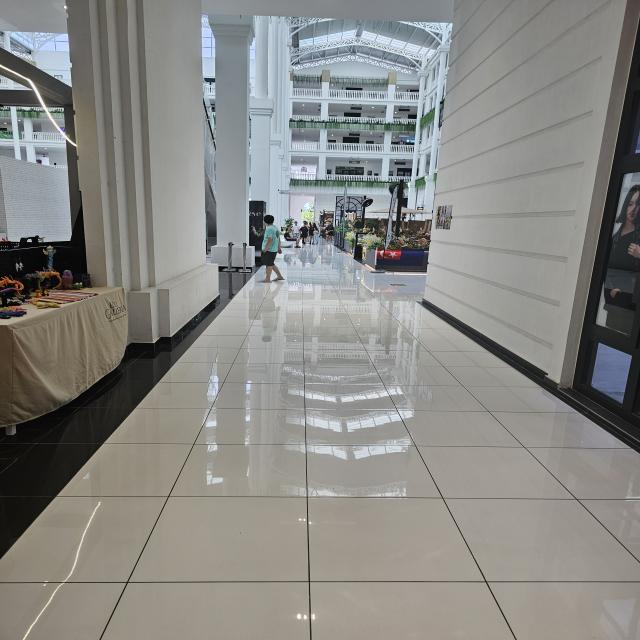footpath: (161, 301, 549, 638)
obstacle: (0, 284, 129, 435)
person: (256, 215, 284, 282)
